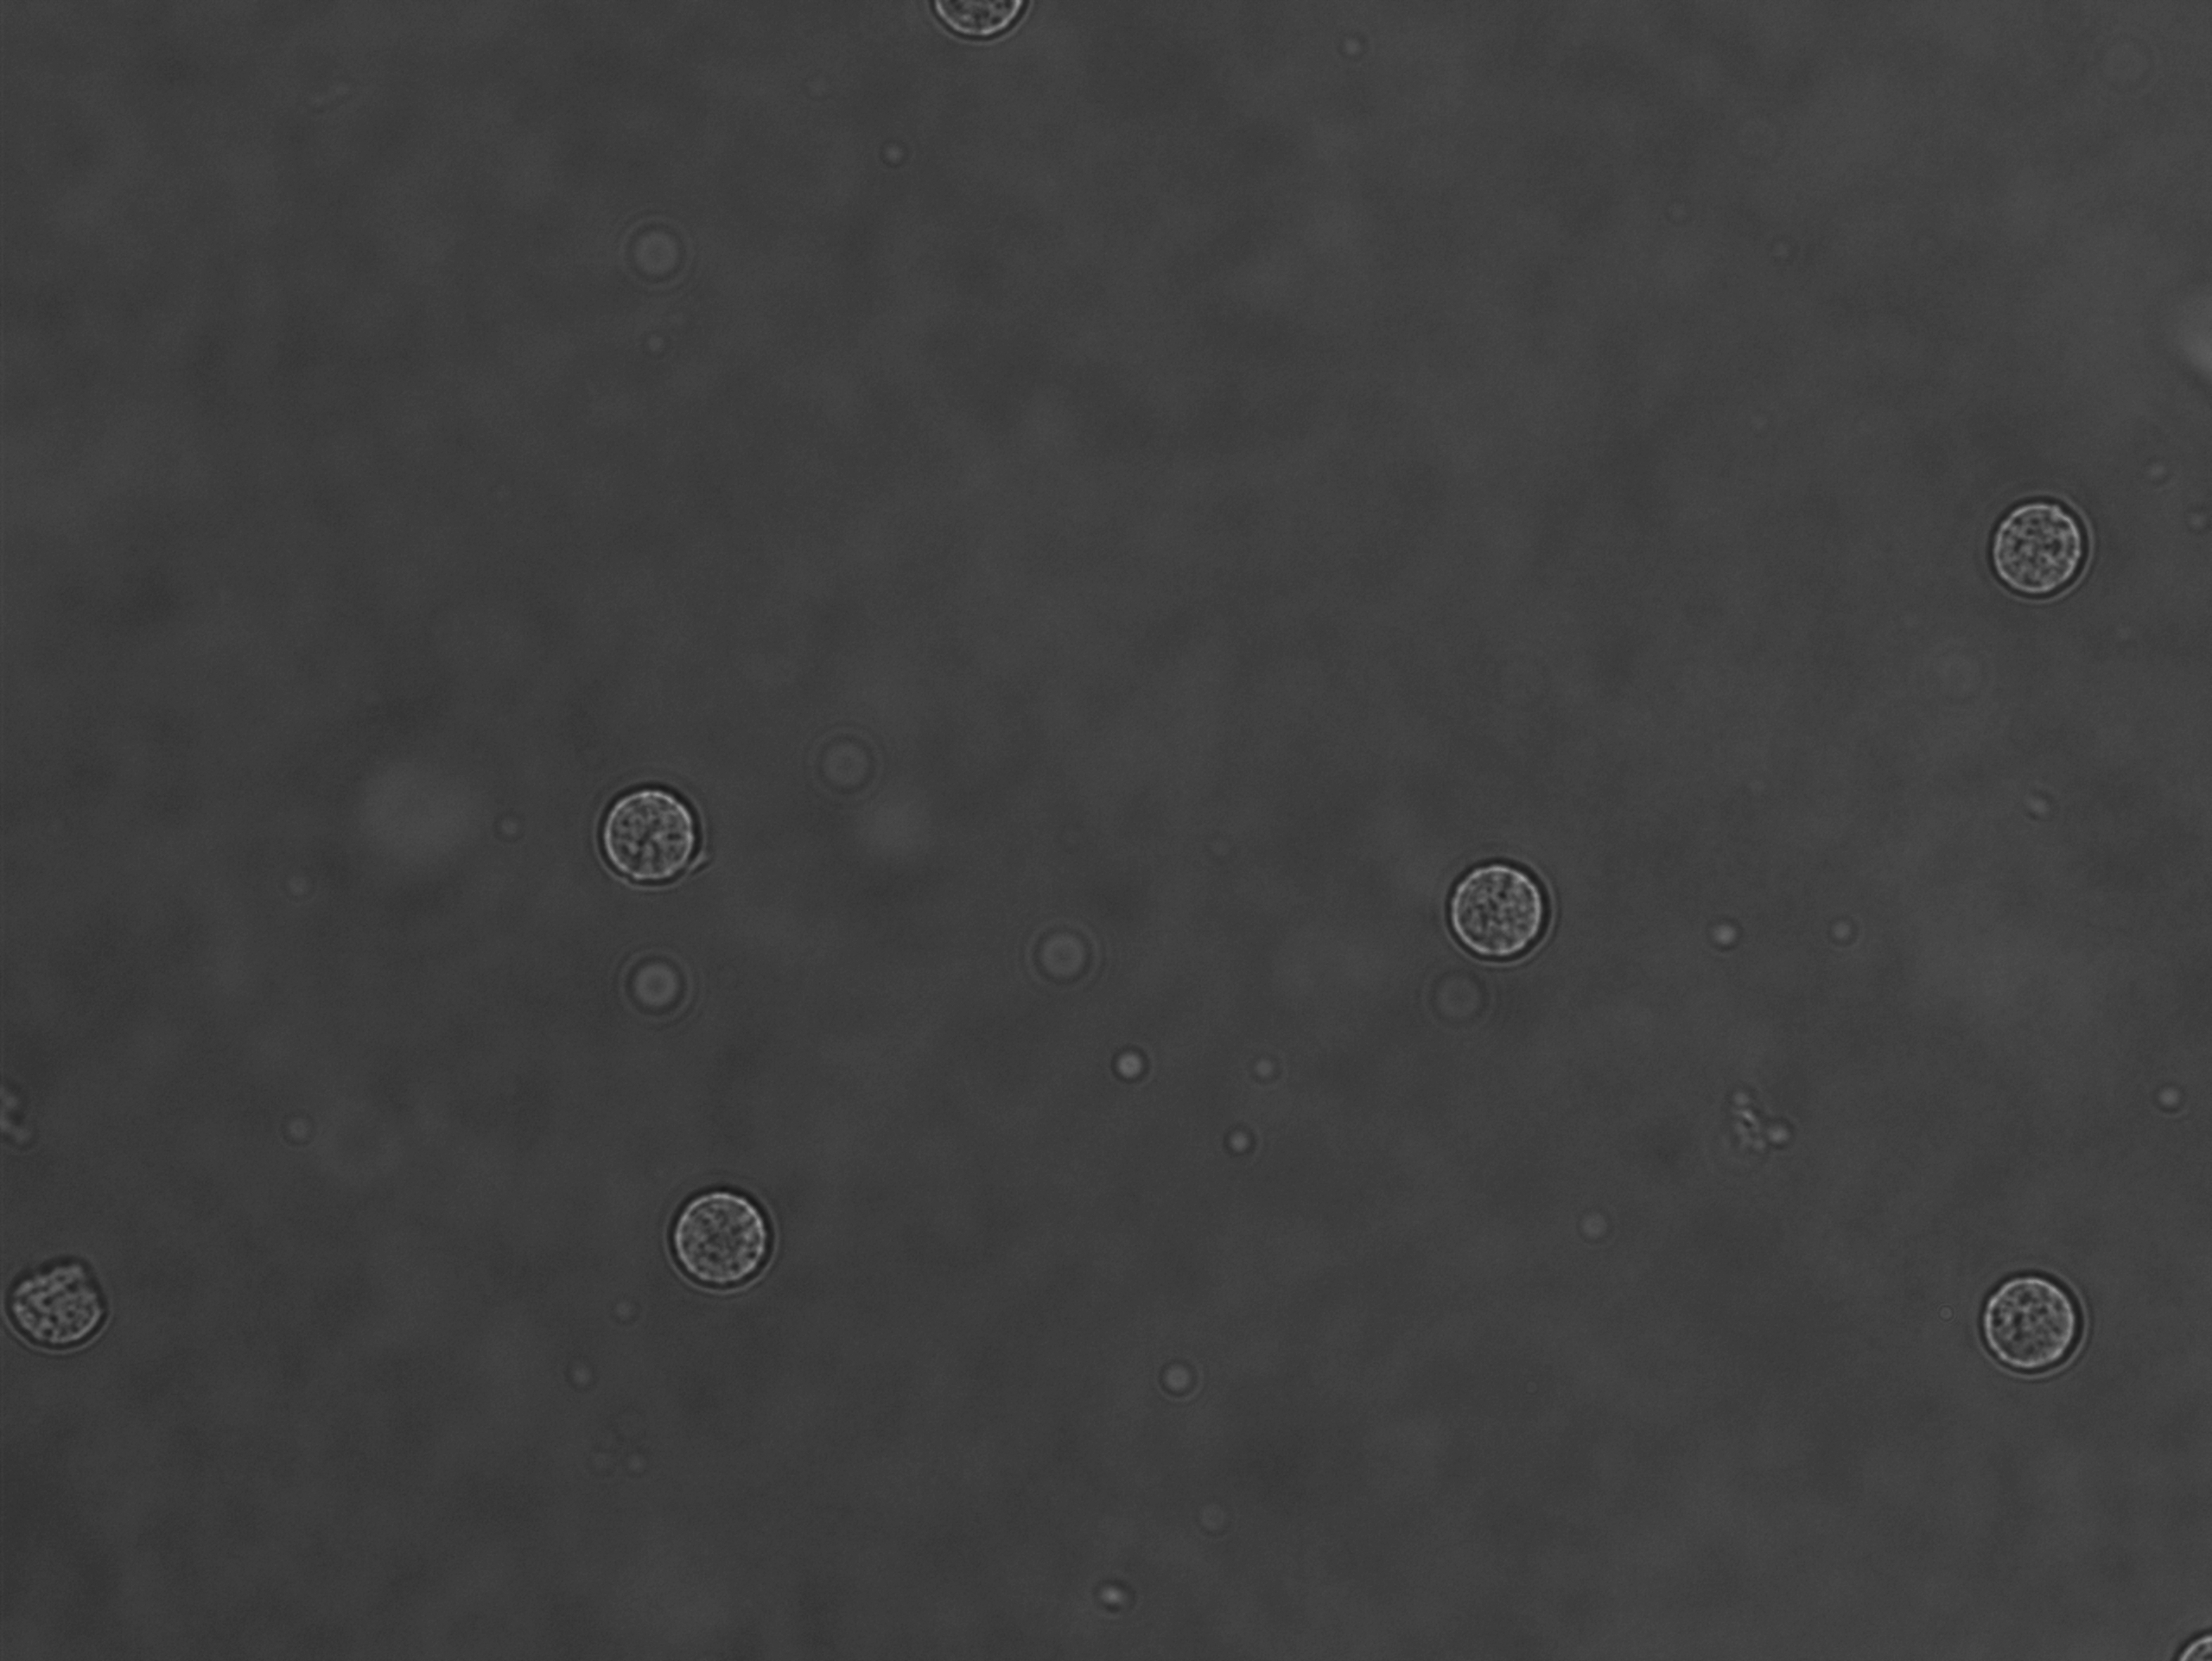depth:0: (1954, 1246, 2140, 1405), (1970, 466, 2118, 637), (652, 1165, 795, 1312), (1425, 851, 1579, 982), (574, 771, 717, 904)
